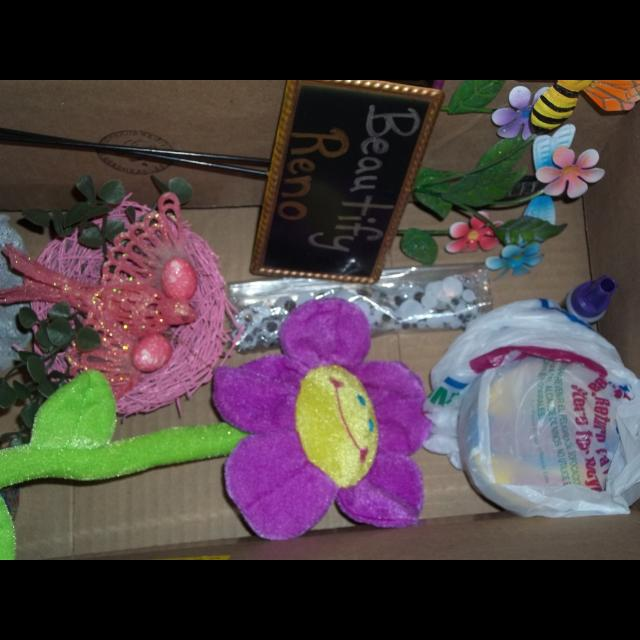Flower: (210, 296, 434, 540), (536, 130, 600, 196), (492, 86, 548, 142), (444, 208, 506, 254), (486, 243, 542, 281)
